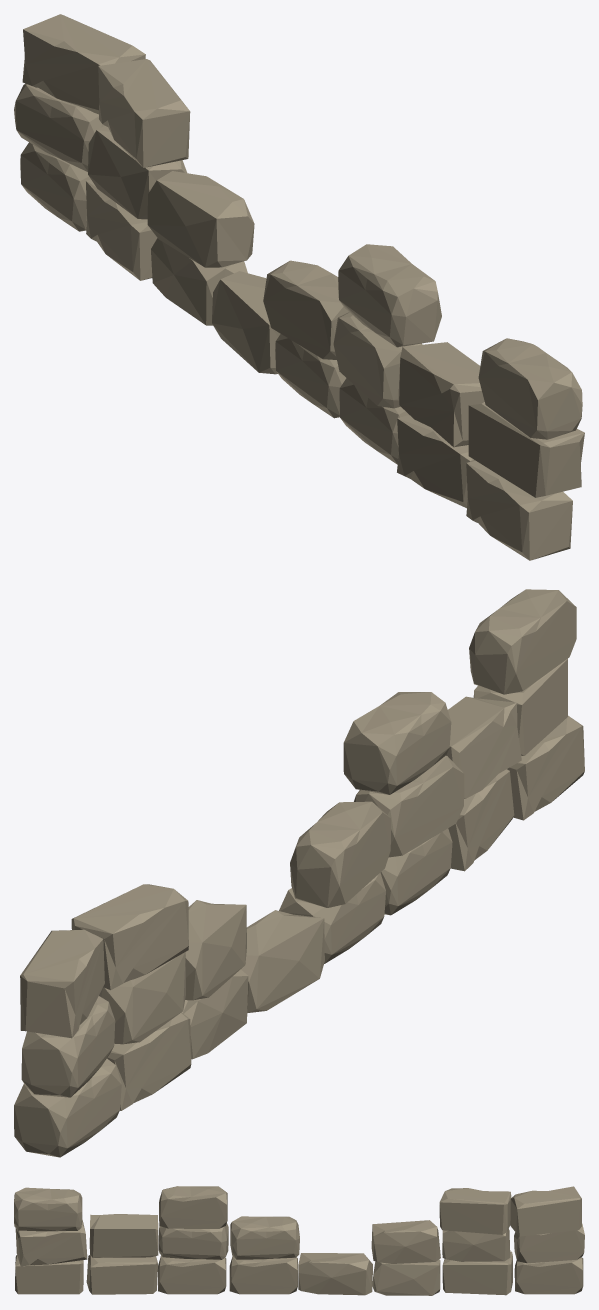
Rendered from SM_stone_block_wall_01.fbx.
3 views of the same model, one above another, from view 1: azimuth 30°, elevation 25°; view 2: azimuth 150°, elevation 25°; view 3: azimuth 270°, elevation 25° (orthographic). The views are drawn at different scales.
Parts seen in each view (by area): view 1: stone_block_wall_01; view 2: stone_block_wall_01; view 3: stone_block_wall_01.
Boxes of the visible parts, x1,y1,x2,y2 form: stone_block_wall_01: [14, 14, 584, 560]; stone_block_wall_01: [14, 589, 584, 1157]; stone_block_wall_01: [14, 1186, 584, 1295].
Size of the model in its own units: 55.18 by 116 by 607.
